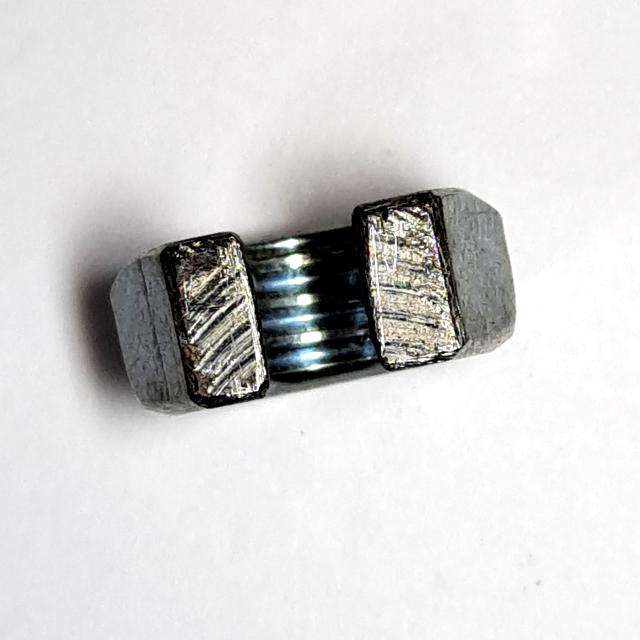Side-Fracture: (94, 173, 539, 427)
